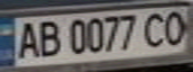0: (63, 16, 87, 55), (84, 15, 106, 53)
7: (118, 11, 142, 51), (103, 12, 124, 52)
A: (12, 19, 42, 60)
B: (33, 18, 63, 58)
C: (139, 9, 172, 48)
O: (160, 8, 193, 46)
